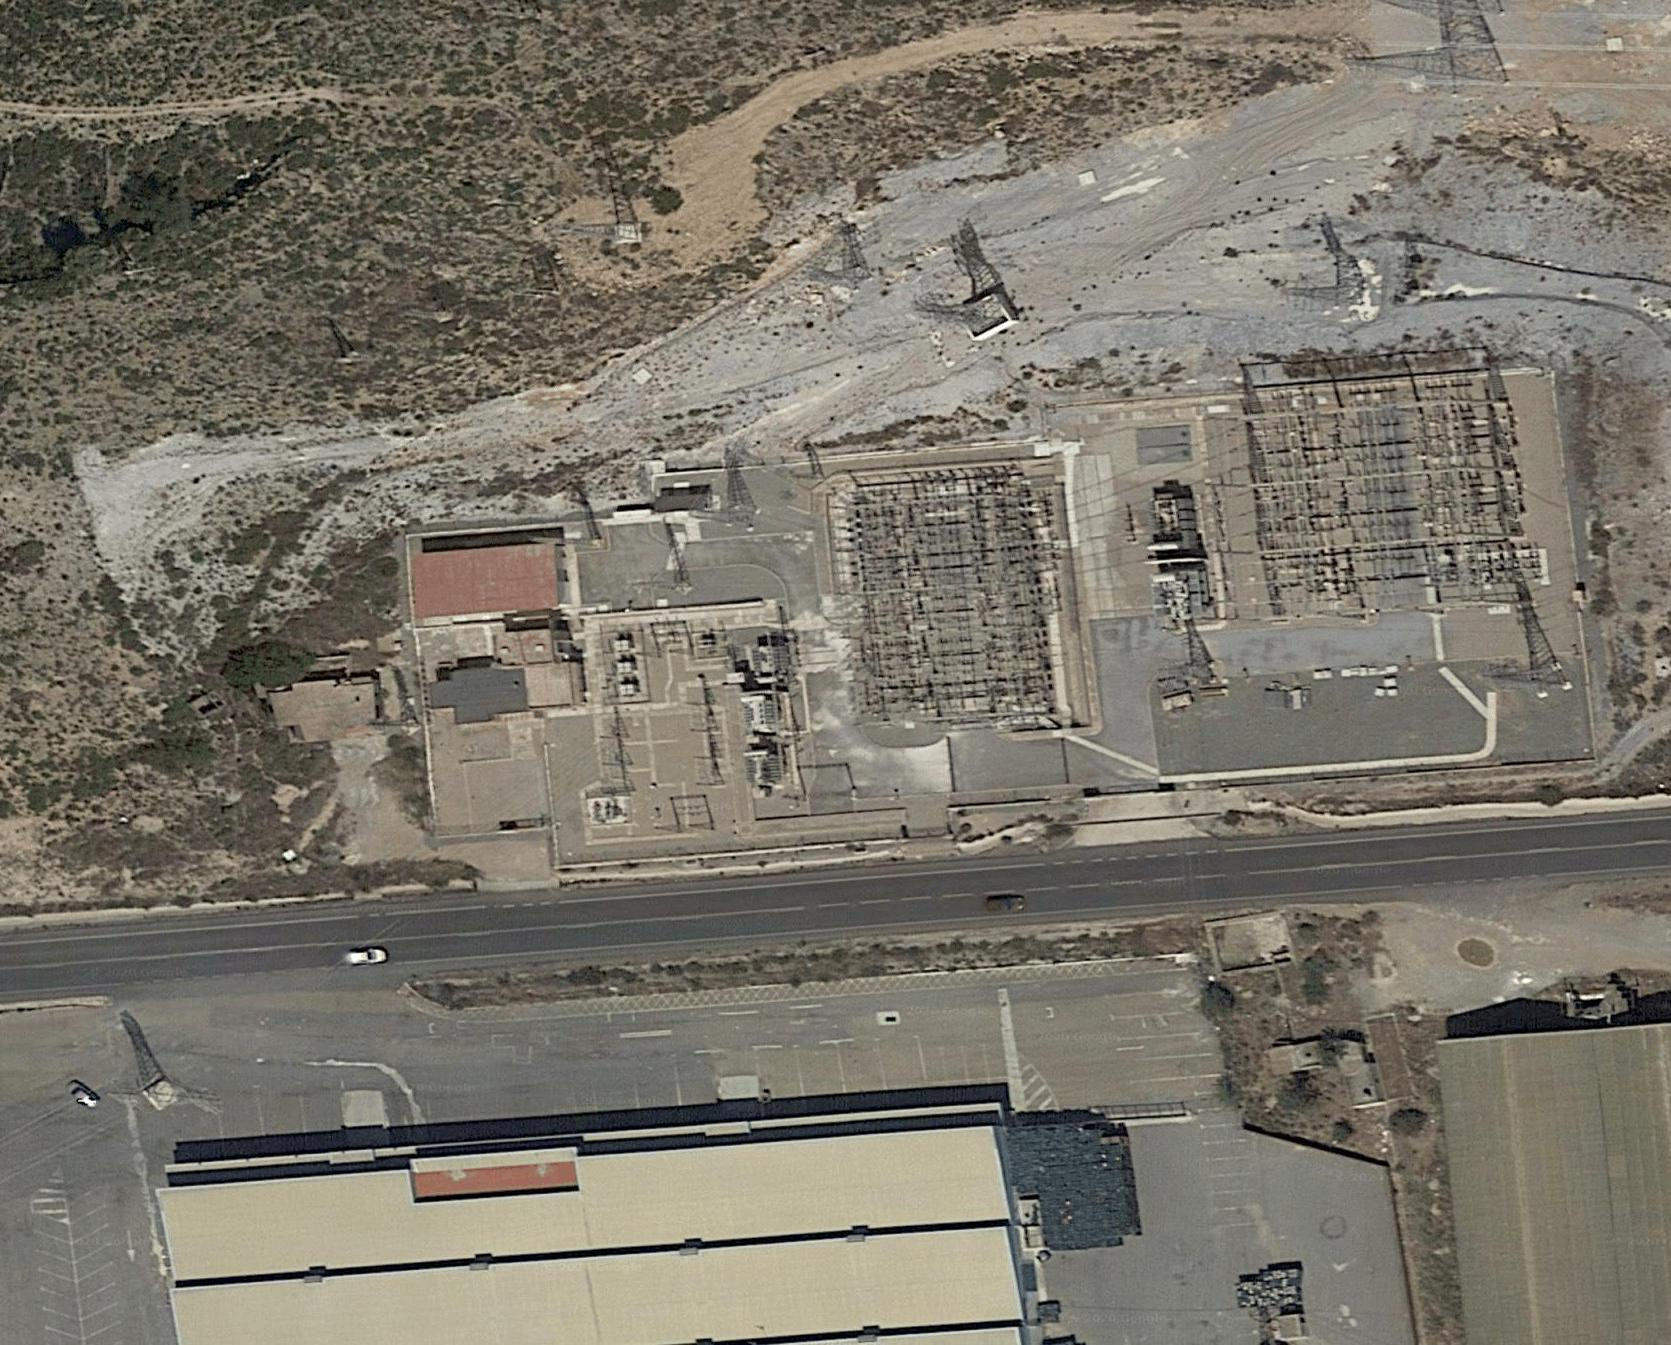substation: (583, 436, 1077, 833), (1117, 339, 1574, 690)
